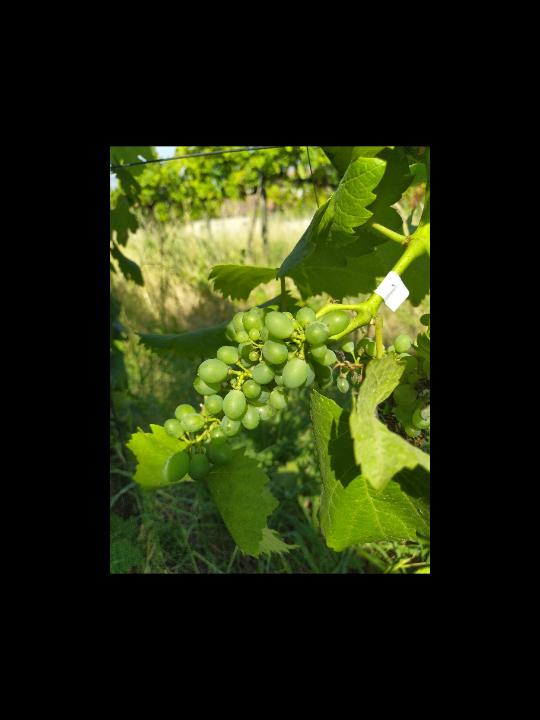grape: (152, 300, 362, 489)
